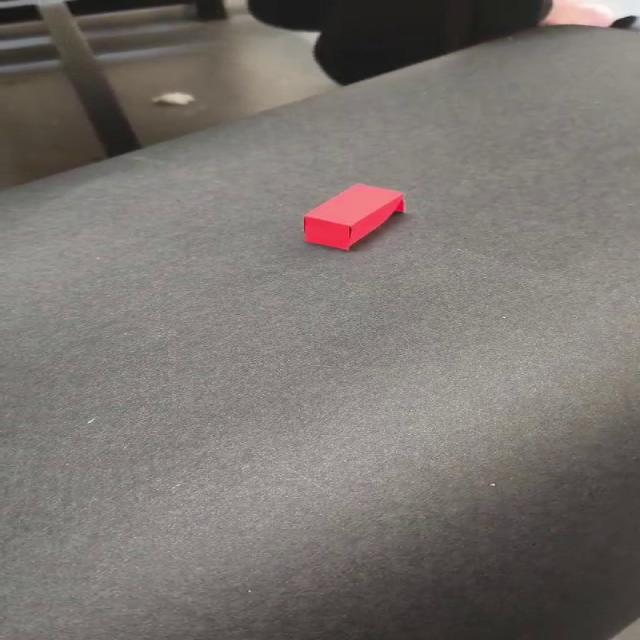red block: (301, 182, 407, 250)
